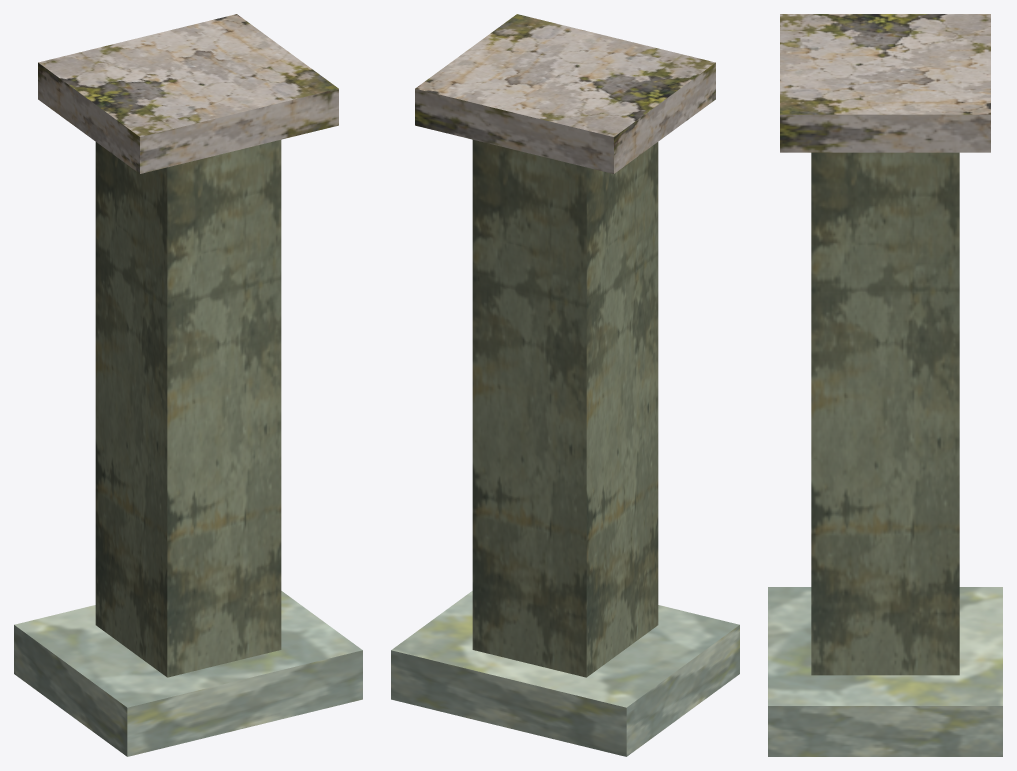
File: Bridge_Pier.glb
3 views of the same model, side by side, from view 1: azimuth 30°, elevation 25°; view 2: azimuth 150°, elevation 25°; view 3: azimuth 270°, elevation 25° (orthographic). The views are drawn at different scales.
Visible parts, largest first — view 1: Bridge_Pier; view 2: Bridge_Pier; view 3: Bridge_Pier.
Boxes of the visible parts, <box> form: Bridge_Pier: <box>14,14,362,756</box>; Bridge_Pier: <box>391,14,739,756</box>; Bridge_Pier: <box>768,14,1002,756</box>.
Bounding box in the file's own units: 1.8 × 4.47 × 1.5.
1 material, 1 textured.
